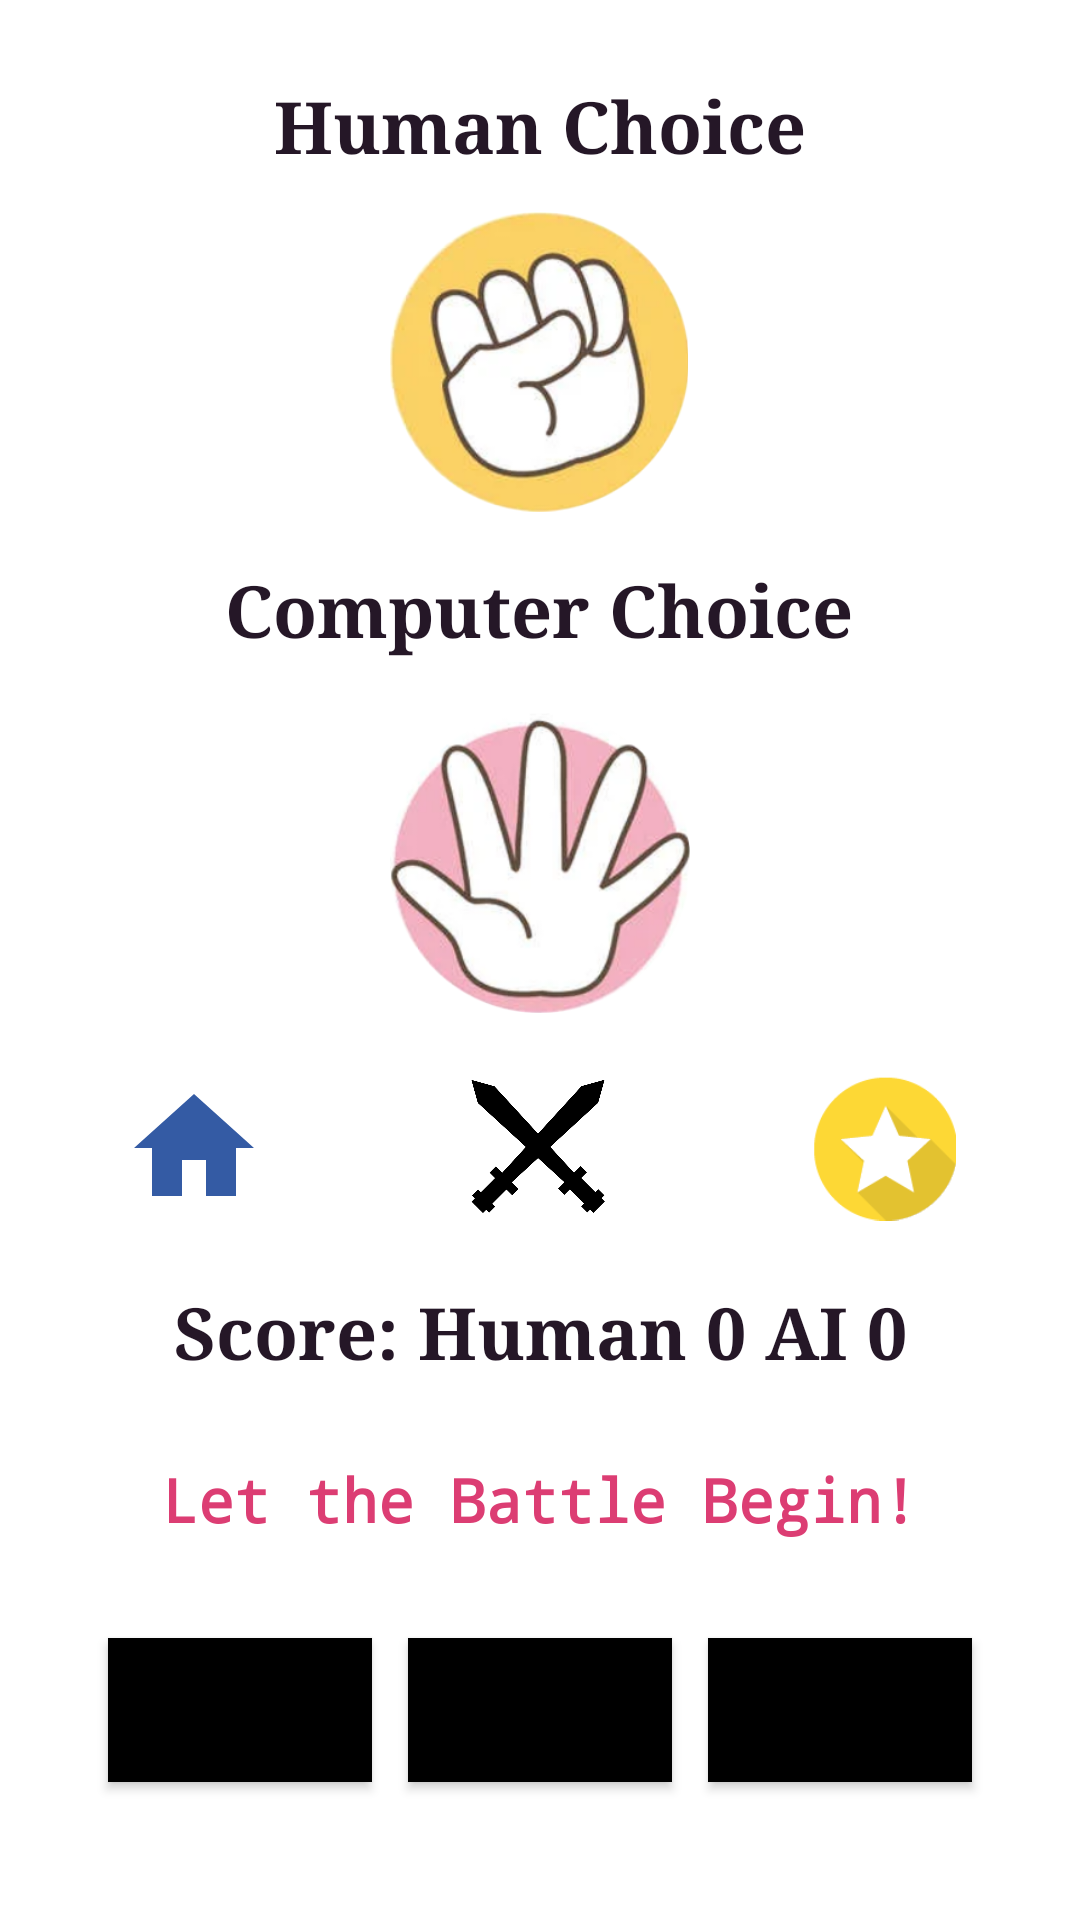

Locate icon controls on the screen. Image size 1080×1920, boxes as (x1, y1, x2, y2).
Get Points: (814, 1077, 956, 1221)
Home: (134, 1094, 254, 1196)
paper: (391, 720, 690, 1013)
rock: (390, 212, 688, 512)
